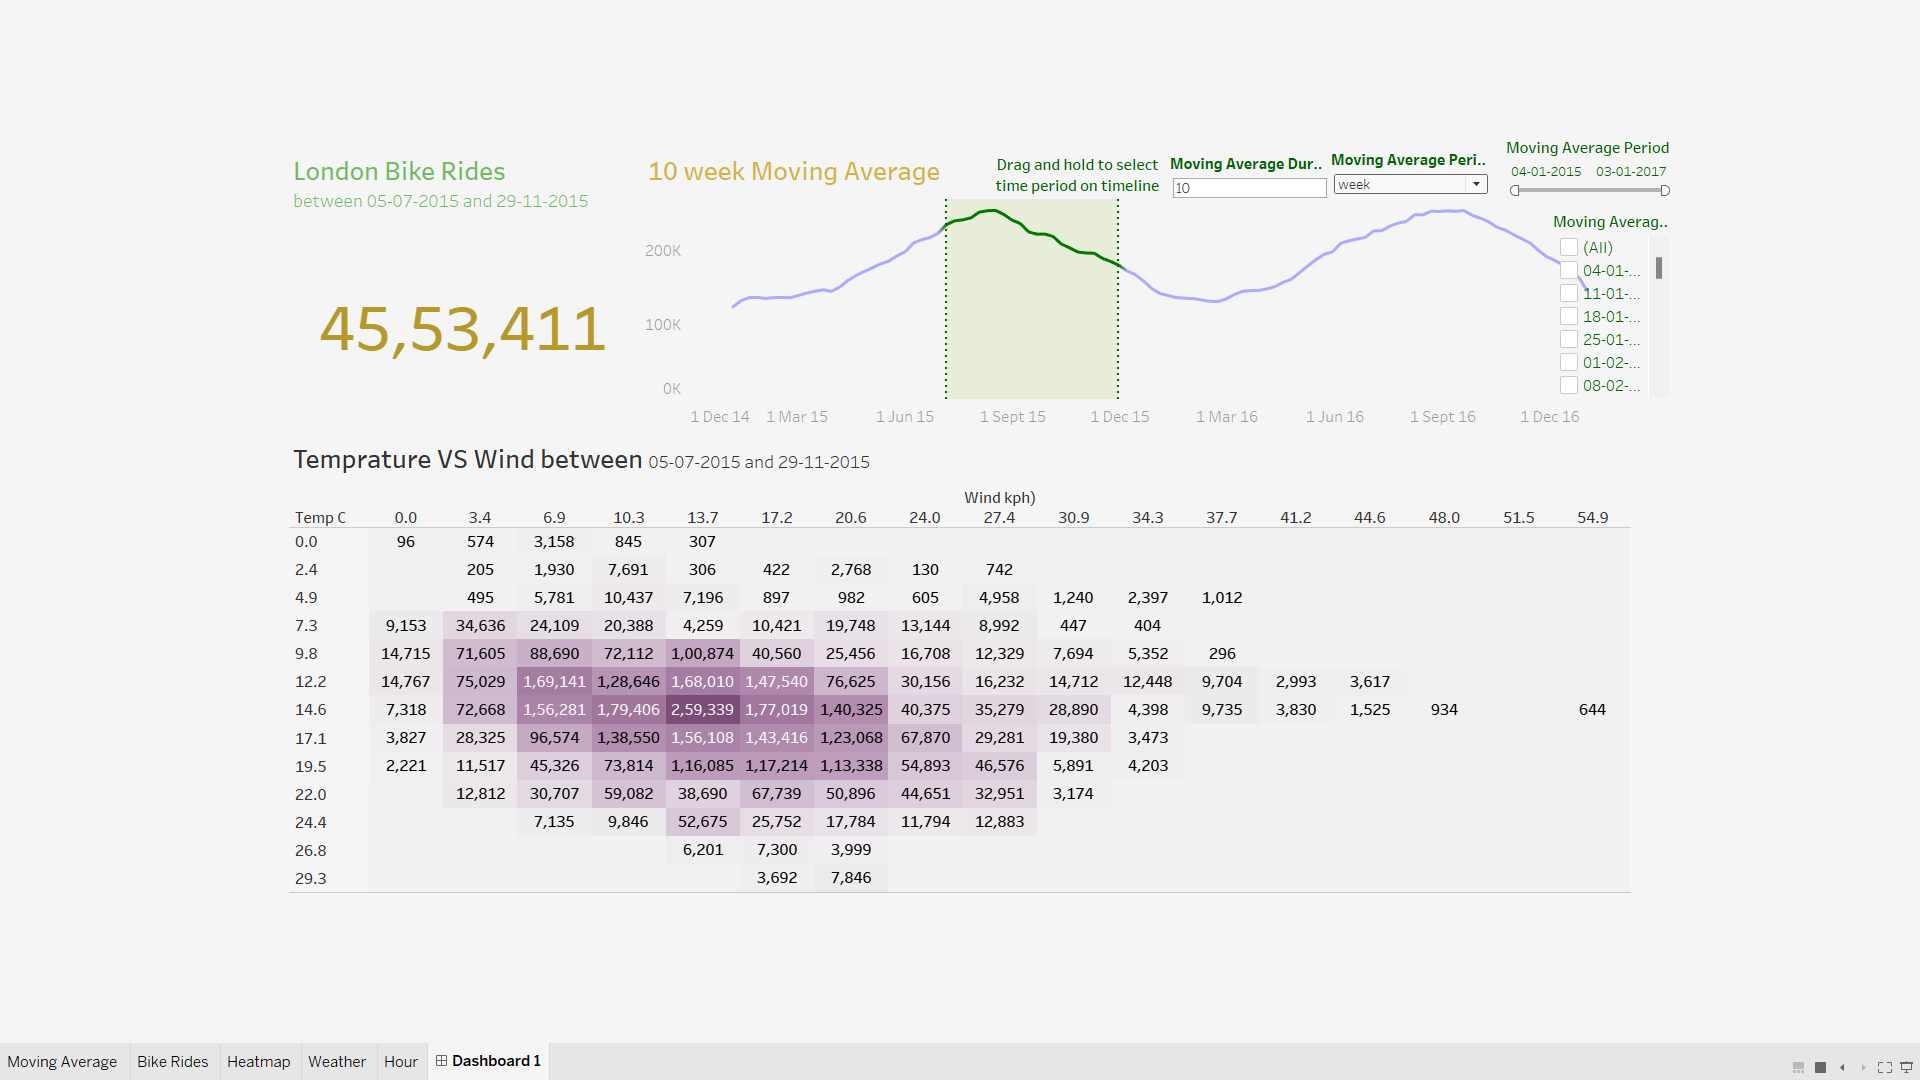

Layout of this report page (visuals, bound fields, positions):
{"tool":"tableau","page":{"name":"Dashboard 1","canvas":[1366,768],"ordinal":0},"visuals":[{"type":"worksheet","title":"Bike Rides","mark":"Automatic","box":[8,8,355,288]},{"type":"worksheet","title":"Moving Average","mark":"Automatic","rows":["Calculation1"],"cols":["Calculation_184929103509639168"],"box":[363,8,995,288]},{"type":"parameter","param":"[Parameters].[Parameter 1]","box":[1054,12,160,48]},{"type":"parameter","param":"[Parameters].[Parameter 2]","box":[893,16,160,48]},{"type":"text","box":[715,17,171,42]},{"type":"worksheet","title":"Heatmap","mark":"Square","rows":["temp real C (bin)"],"cols":["Wind Speed Kph (bin)"],"box":[8,296,1350,464]}]}

Visuals, with their boxes on the page's 1366x768 design canvas (x1, y1, x2, y2). These are canvas units, not pixel positions in the 1920x1080 screenshot, which may show the page scaled, cropped or inside an application window:
"Bike Rides" worksheet: box=[8, 8, 363, 296]
"Moving Average" worksheet: box=[363, 8, 1358, 296]
parameter: box=[1054, 12, 1214, 60]
parameter: box=[893, 16, 1053, 64]
text: box=[715, 17, 886, 59]
"Heatmap" worksheet (Square marks): box=[8, 296, 1358, 760]
